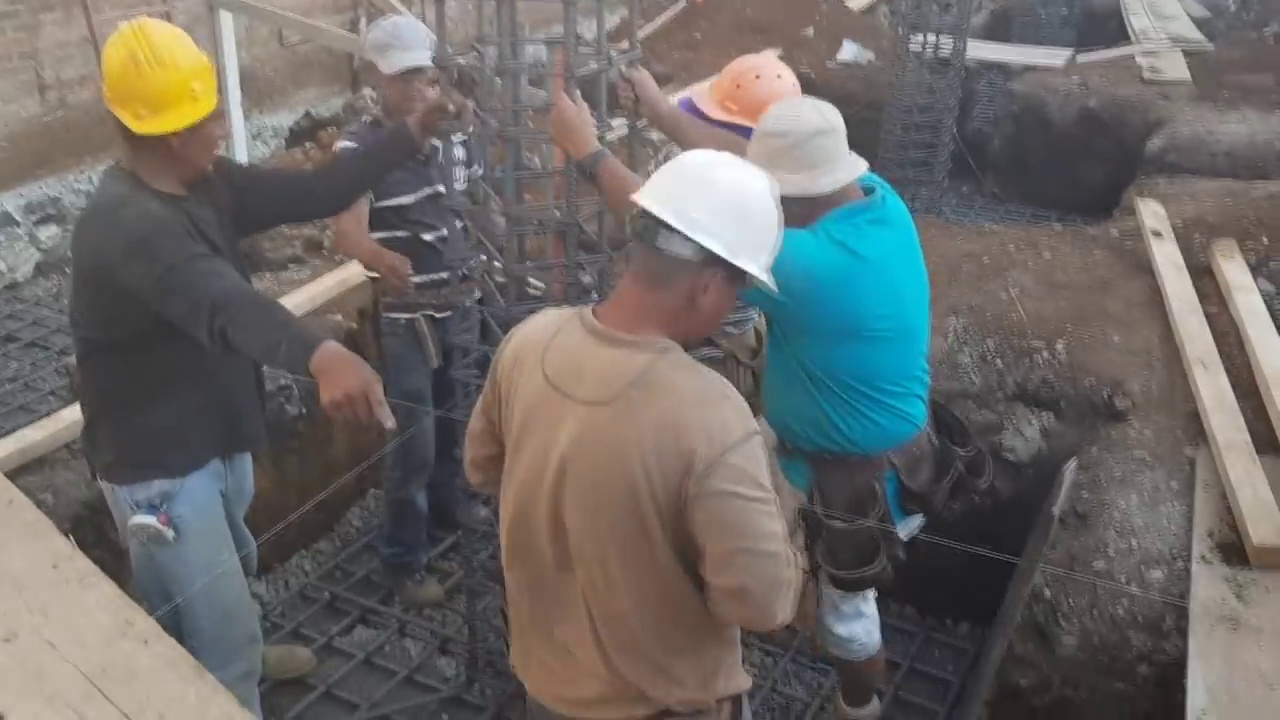helmet: (629, 149, 786, 286), (99, 18, 222, 144), (688, 55, 813, 134)
helmet-off: (743, 96, 872, 223), (360, 4, 446, 138)
helmet-on: (588, 141, 786, 360), (86, 14, 223, 196)
person: (550, 49, 937, 720), (71, 0, 357, 707), (463, 141, 810, 720), (334, 18, 479, 613)
